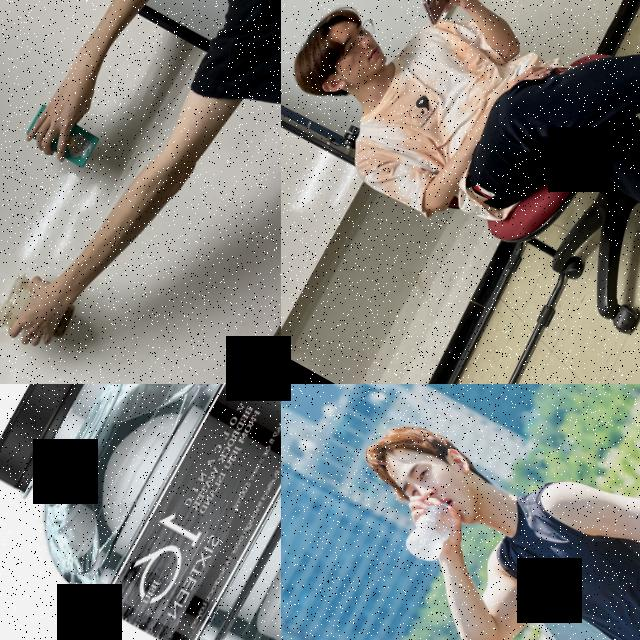bottle: (0, 384, 281, 640), (401, 491, 467, 568)
cup: (0, 267, 83, 358)
